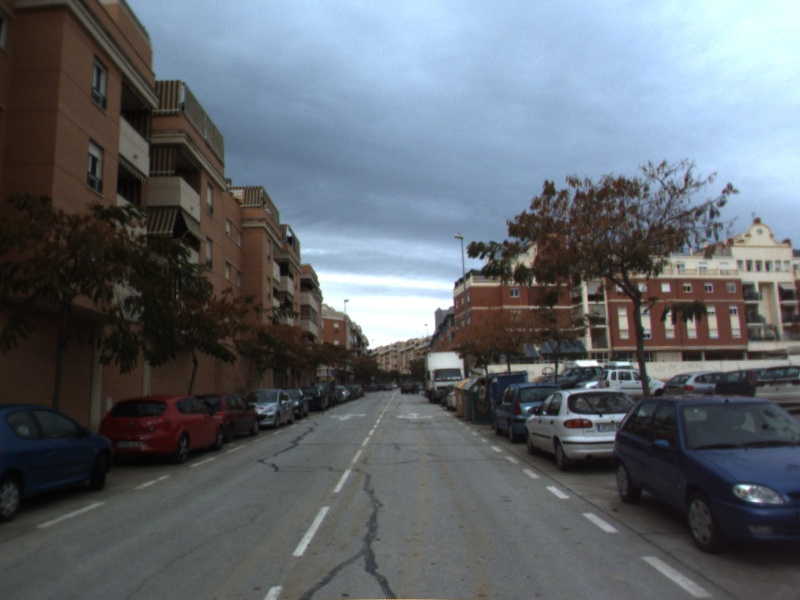STRAIGHT_LEFT_RIGHT: (394, 410, 438, 422)
